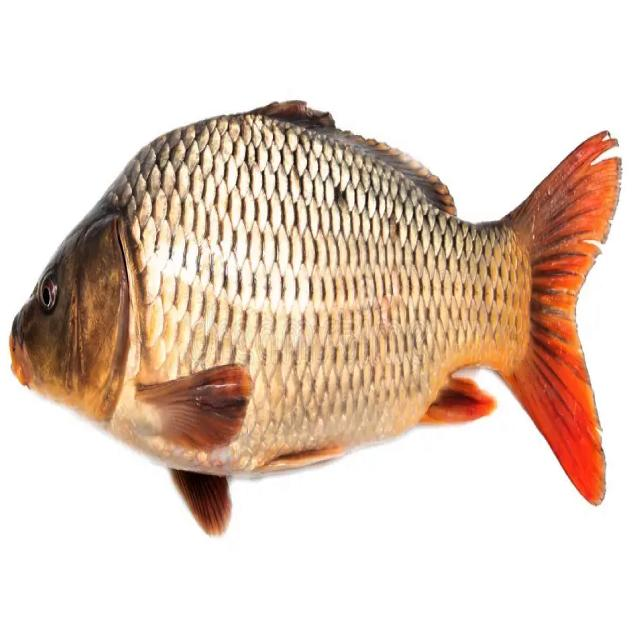Common carp: (8, 102, 622, 535)
